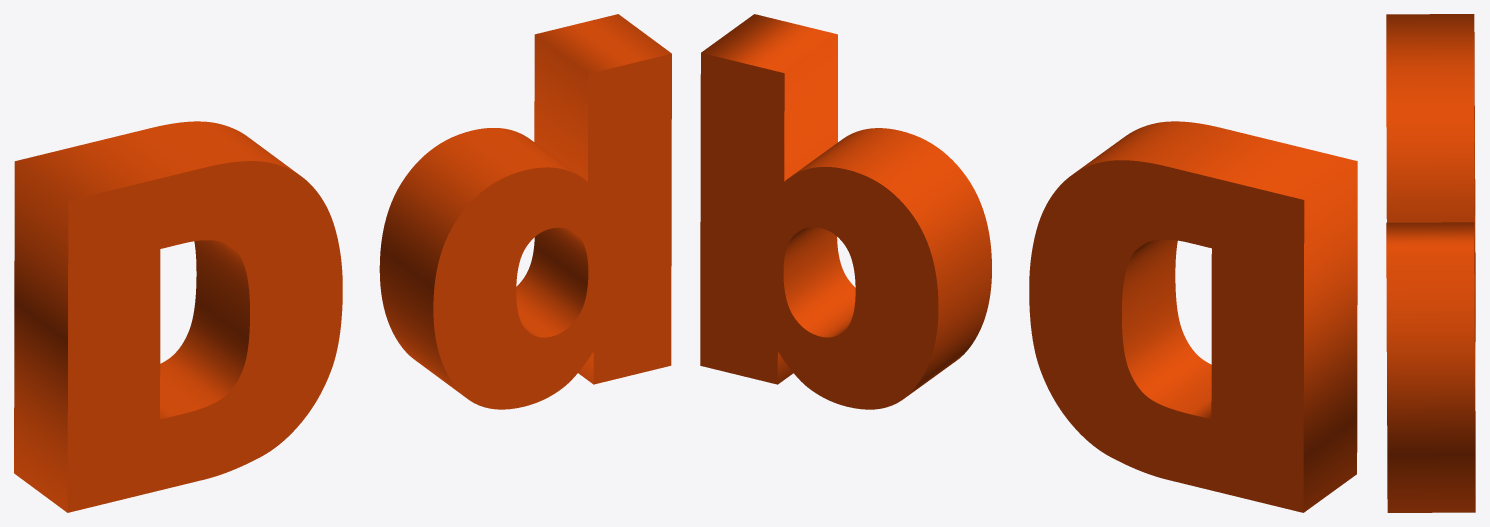
The model's file is letra d.fbx.
The picture shows the model from 3 angles, left to right: view 1: azimuth 30°, elevation 25°; view 2: azimuth 150°, elevation 25°; view 3: azimuth 270°, elevation 25°; orthographic projection. The views are drawn at different scales.
Visible parts, largest first — view 1: Text; view 2: Text; view 3: Text.
Part boxes in pixels (left/top/right/bottom): Text: left=14, top=14, right=671, bottom=512; Text: left=700, top=14, right=1357, bottom=512; Text: left=1386, top=14, right=1475, bottom=512.
Size of the model in its own units: 104 by 52.4 by 16.21.
